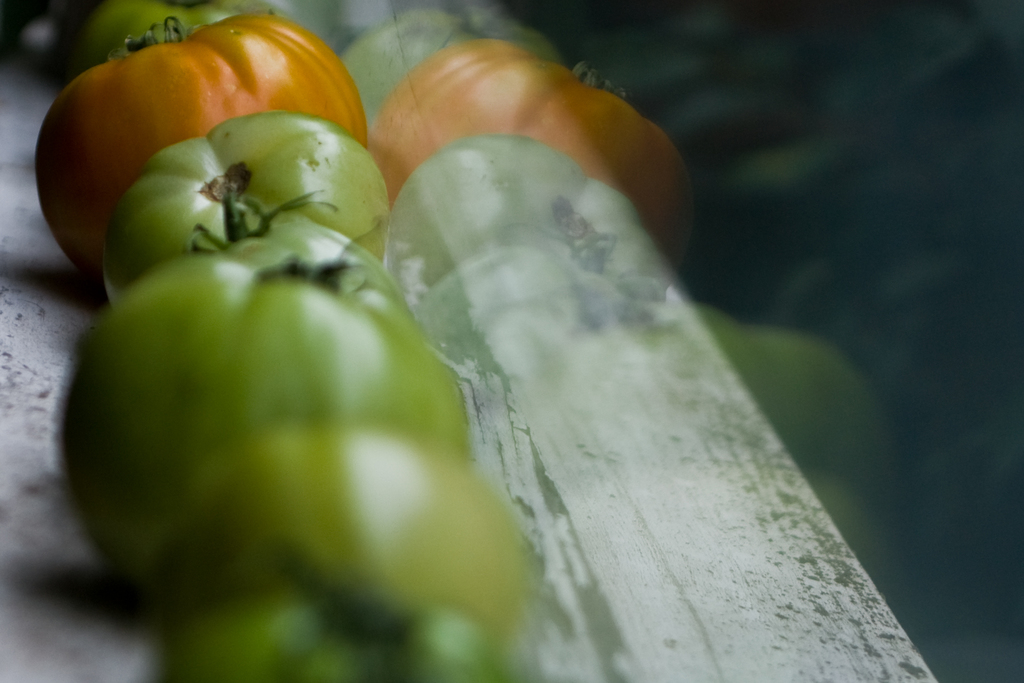Tomato: (151, 420, 536, 636), (36, 20, 372, 265), (368, 35, 698, 260), (99, 108, 387, 305)
